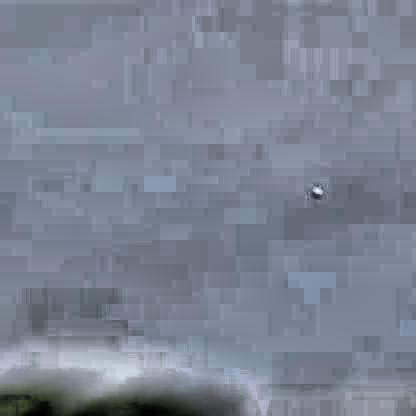golfball: (306, 188, 322, 199)
